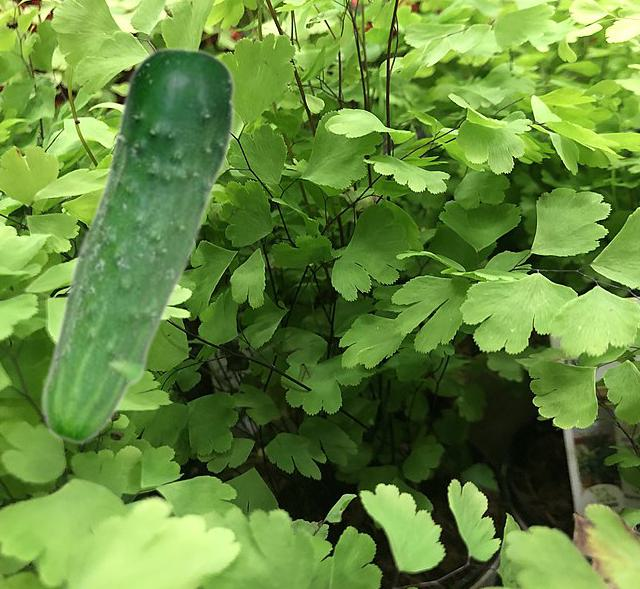cucumber: (38, 46, 236, 444)
